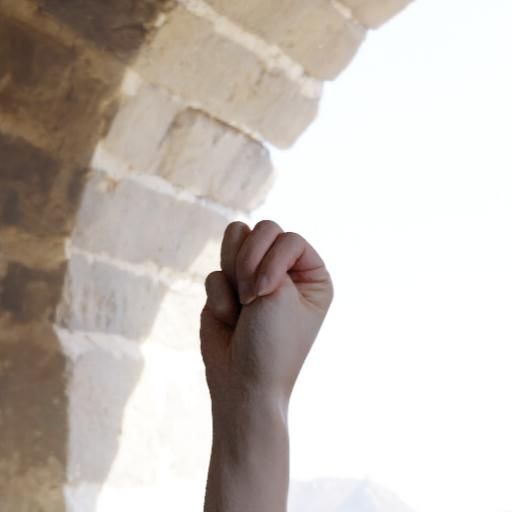M: (180, 214, 342, 512)
